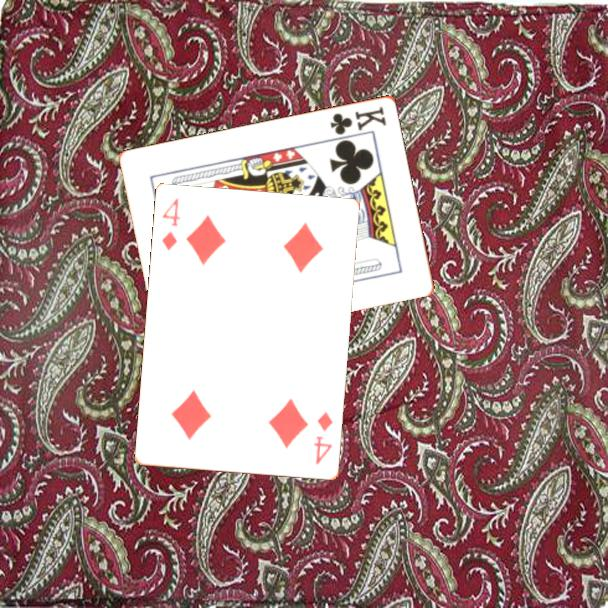c13: (327, 103, 389, 137)
d04: (311, 408, 336, 467), (159, 195, 183, 254)
